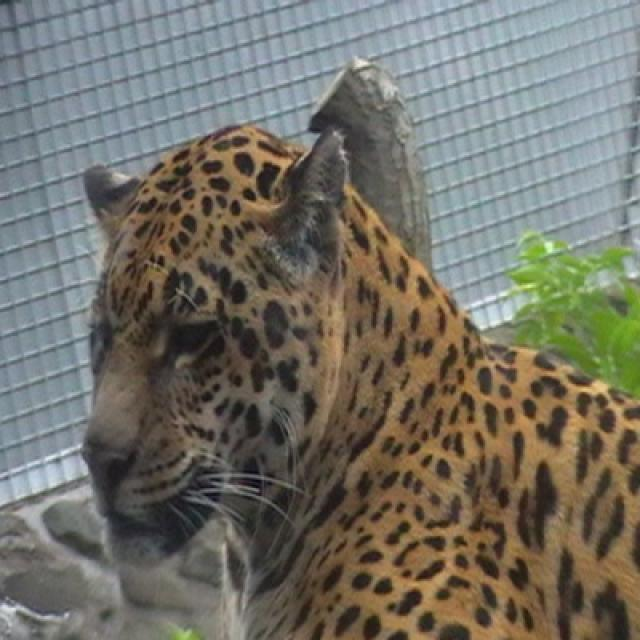Jaguar: (80, 125, 638, 638)
